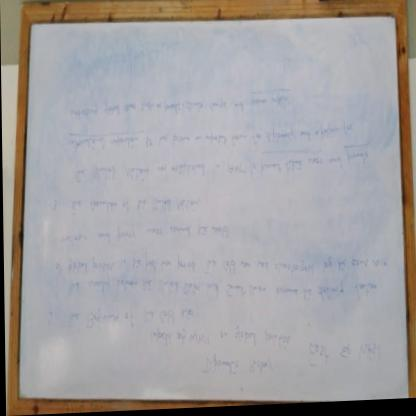Handwritten text: (68, 148, 374, 192), (64, 121, 356, 161), (63, 275, 382, 306), (59, 87, 303, 127), (59, 250, 394, 276), (58, 217, 242, 256), (133, 320, 295, 358), (64, 188, 202, 223), (63, 301, 195, 335), (304, 338, 389, 385), (198, 355, 277, 392)
